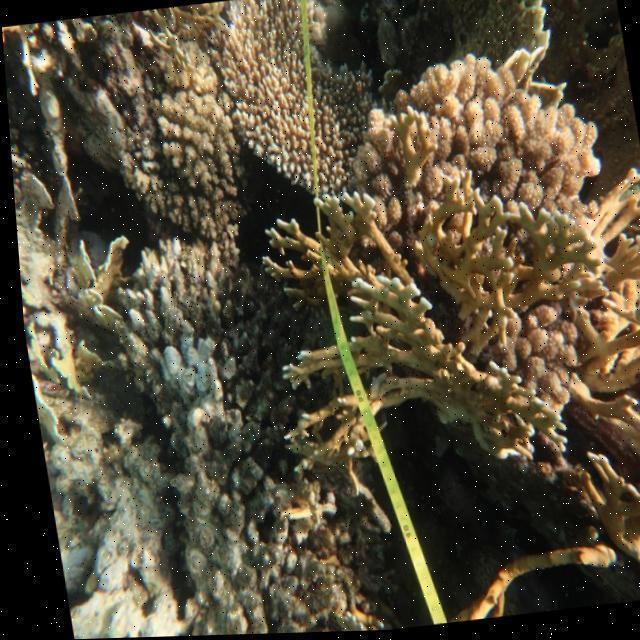Healthy Coral: (220, 0, 640, 635)
